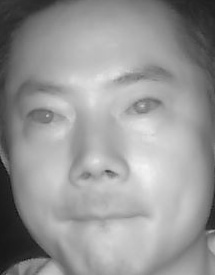eye: (120, 94, 171, 124), (24, 103, 73, 132)
mouth: (60, 196, 149, 241)
